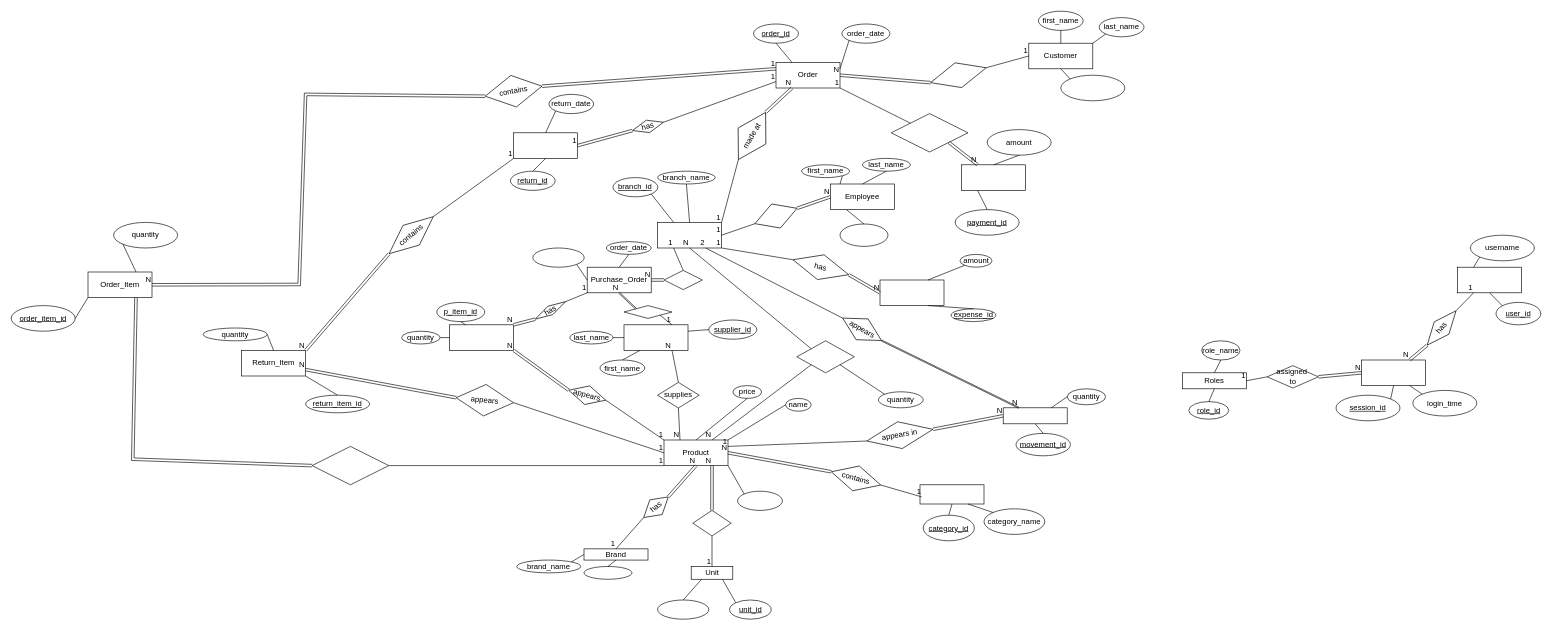
Some shapes in this 1552 by 630 pixel diagram are drawn without their labels. Here are the shapes that lost their labels. From the top down, the centre of each, then its label:
(x=958, y=75): places
(x=1092, y=88): customer_id
(x=545, y=145): Return_orders
(x=929, y=132): links to
(x=993, y=177): Payment
(x=689, y=235): Branch
(x=775, y=216): employs
(x=863, y=234): employee_id
(x=558, y=257): po_id
(x=682, y=280): creates
(x=911, y=292): Expense
(x=1489, y=280): Users
(x=647, y=311): receives
(x=481, y=337): Purchase_Item
(x=655, y=337): Supplier
(x=825, y=356): accomodate
(x=1393, y=372): User_Session
(x=1035, y=415): Stock_Movement
(x=350, y=465): belongs to
(x=759, y=500): product_id
(x=951, y=494): Category
(x=711, y=523): used_by
(x=607, y=572): brand_id
(x=683, y=609): unit_name
